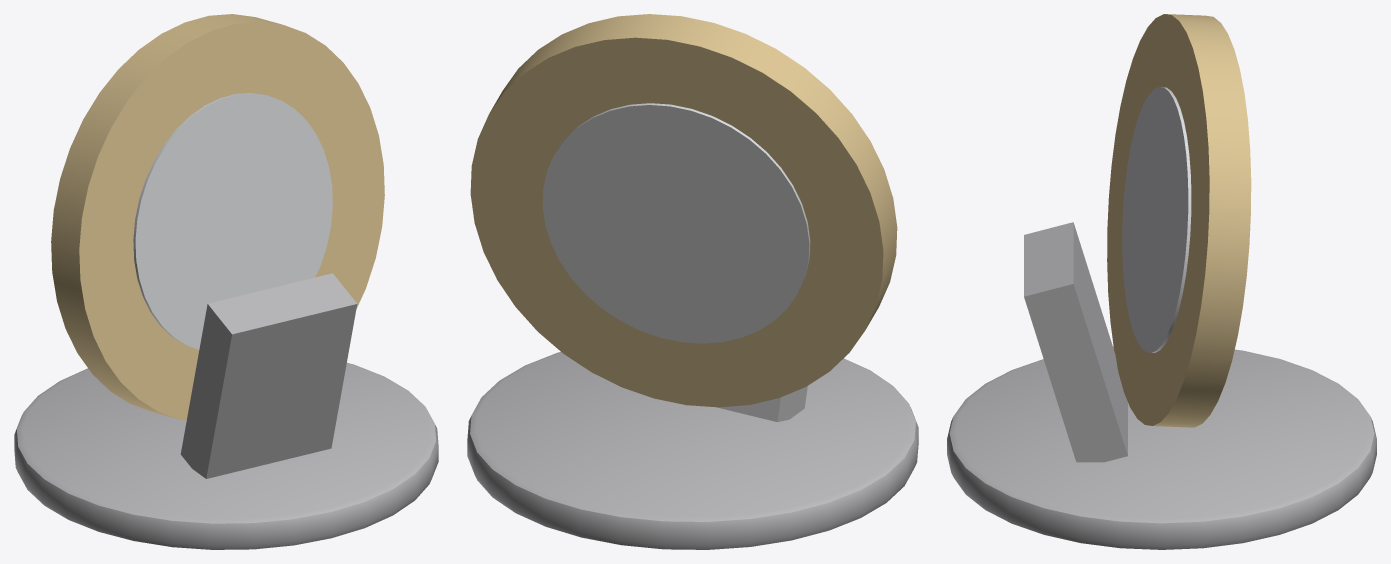
File: token-coin.glb
3 views of the same model, side by side, from view 1: azimuth 30°, elevation 25°; view 2: azimuth 150°, elevation 25°; view 3: azimuth 270°, elevation 25° (orthographic). The views are drawn at different scales.
Parts seen in each view (by area): view 1: coin_outer, token_base, coin_inner, coin_prop; view 2: coin_outer, token_base, coin_inner, coin_prop; view 3: token_base, coin_outer, coin_prop, coin_inner.
Part boxes in pixels (left/top/right/bottom): coin_outer: left=51, top=14, right=384, bottom=420; token_base: left=14, top=362, right=438, bottom=549; coin_inner: left=133, top=93, right=332, bottom=349; coin_prop: left=180, top=273, right=357, bottom=478; coin_outer: left=470, top=14, right=897, bottom=407; token_base: left=467, top=352, right=918, bottom=549; coin_inner: left=542, top=103, right=810, bottom=343; coin_prop: left=717, top=386, right=807, bottom=422; token_base: left=947, top=346, right=1376, bottom=549; coin_outer: left=1107, top=14, right=1251, bottom=427; coin_prop: left=1024, top=222, right=1127, bottom=462; coin_inner: left=1122, top=87, right=1191, bottom=352.
Bounding box in the file's own units: 1 × 1.1 × 1.
